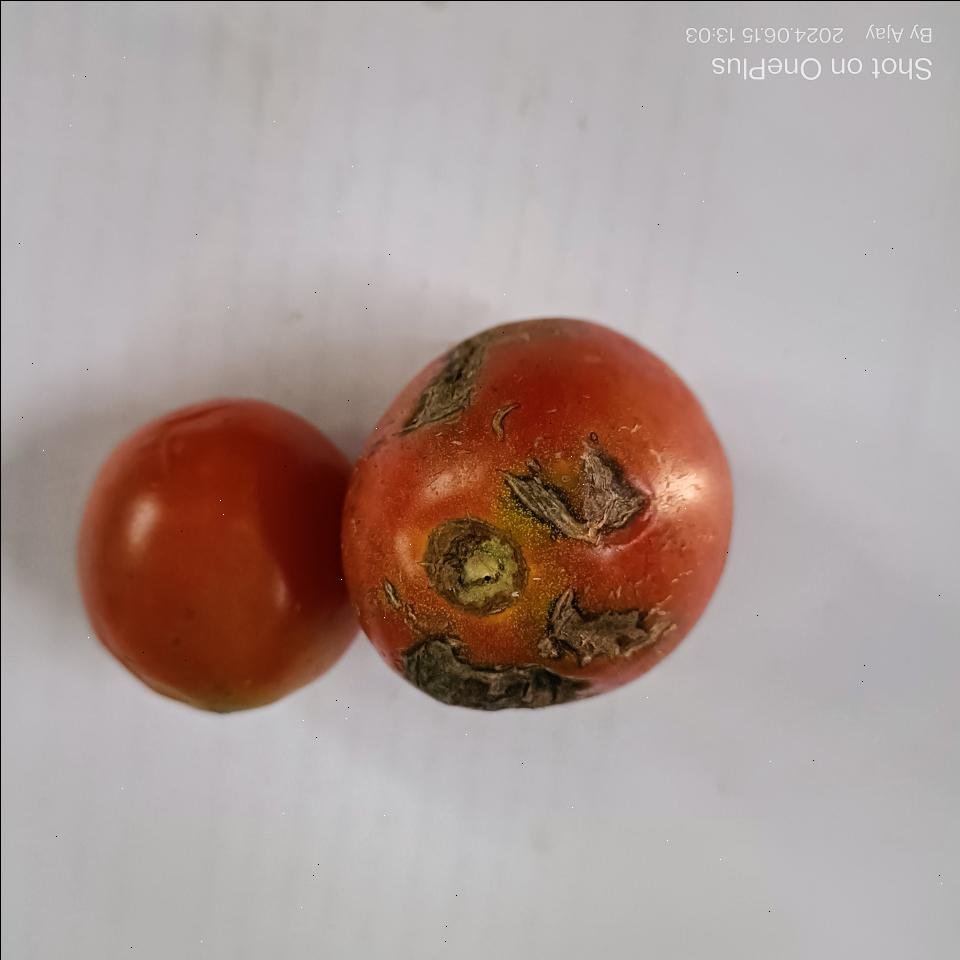Bacterial_Spot: (500, 445, 668, 551), (546, 598, 670, 658), (426, 564, 532, 614), (430, 668, 578, 702), (422, 360, 476, 428), (413, 638, 453, 659), (380, 578, 403, 608)
